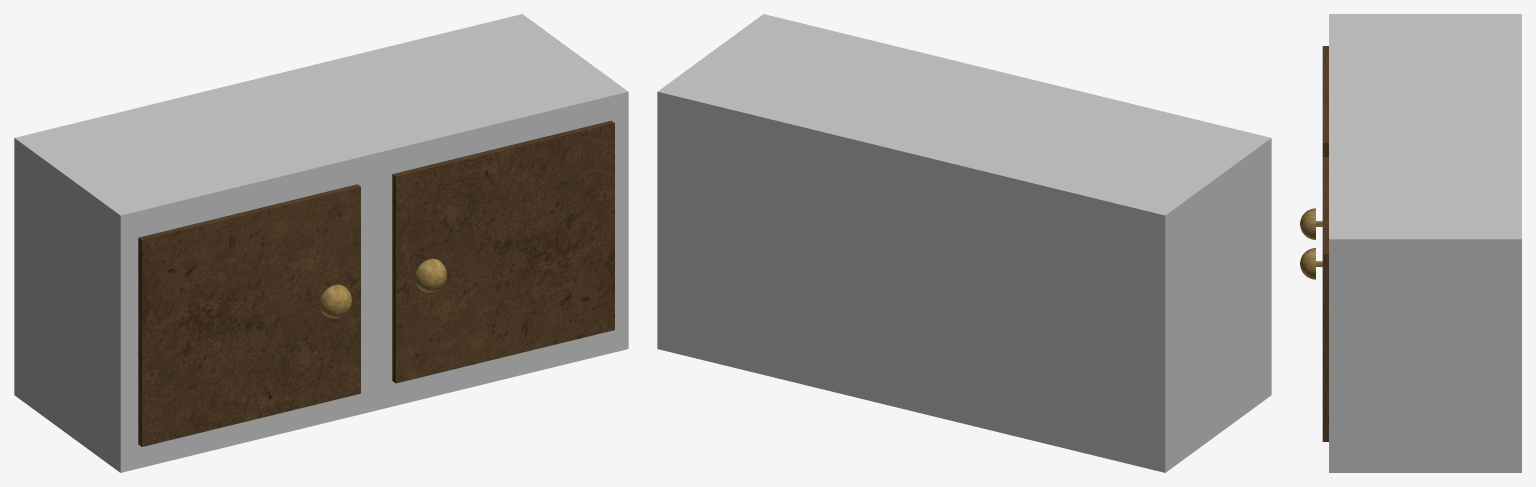
File: Cabinet.fbx
The picture shows the model from 3 angles, left to right: view 1: azimuth 30°, elevation 25°; view 2: azimuth 150°, elevation 25°; view 3: azimuth 270°, elevation 25°; orthographic projection. The views are drawn at different scales.
Visible parts, largest first — view 1: pCube1 (×2), New_cabinet_Door:pCube1, New_cabinet_Door:pSphere1, pSphere1; view 2: pCube1; view 3: pCube1 (×2), New_cabinet_Door:pCube1, pSphere1, New_cabinet_Door:pSphere1.
Boxes of the visible parts, bbox=[...] form: pCube1 (×2): bbox=[14, 14, 628, 472]; New_cabinet_Door:pCube1: bbox=[138, 184, 360, 446]; New_cabinet_Door:pSphere1: bbox=[319, 284, 351, 318]; pSphere1: bbox=[414, 258, 446, 292]; pCube1: bbox=[657, 14, 1271, 472]; pCube1 (×2): bbox=[1322, 14, 1521, 472]; New_cabinet_Door:pCube1: bbox=[1322, 46, 1328, 156]; pSphere1: bbox=[1300, 248, 1315, 279]; New_cabinet_Door:pSphere1: bbox=[1300, 208, 1315, 239].
Size of the model in its own units: 12.67 by 6.13 by 5.28.
